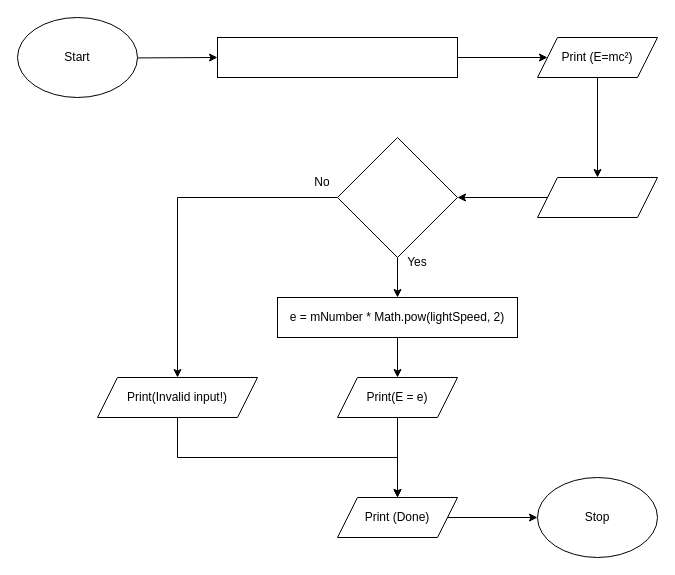
This 675x575 diagram has some shape labels left out. The centre of each missing label's shape, as x and y in pixels:
"Get mString (Enter M(kg): )" goes at (x=597, y=197).
"If mNumber = parseInt(mString)" goes at (x=397, y=197).
"lightSpeed = 2.998 * Math.pow(10, 8)" goes at (x=337, y=57).
